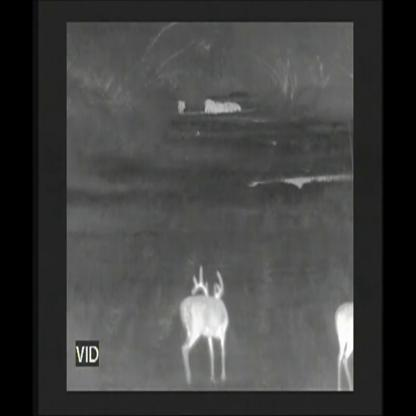rehkitze: (176, 269, 233, 385), (331, 294, 354, 391), (205, 100, 242, 116)
